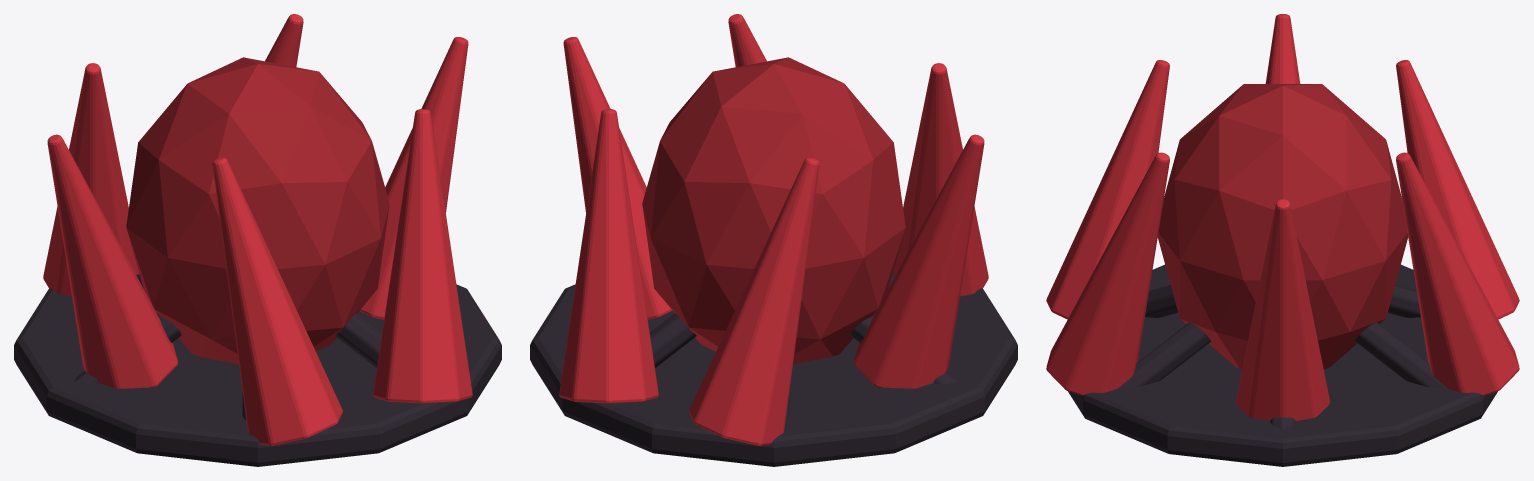
The model's file is alien_core.glb.
The picture shows the model from 3 angles, left to right: view 1: azimuth 30°, elevation 25°; view 2: azimuth 150°, elevation 25°; view 3: azimuth 270°, elevation 25°; orthographic projection. The views are drawn at different scales.
Parts seen in each view (by area): view 1: CoreShell, Foundation, CoreBlade.005, CoreBlade.004, CoreBlade.003, CoreBlade.002, CoreBlade, Root.005, CoreBlade.001, Root.003; view 2: CoreShell, Foundation, CoreBlade.001, CoreBlade.002, CoreBlade.003, CoreBlade.004, CoreBlade, Root.001, CoreBlade.005, Root.003; view 3: CoreShell, Foundation, CoreBlade.001, CoreBlade.005, CoreBlade, CoreBlade.002, CoreBlade.004, Root.001, Root.005, CoreBlade.003, Root.002, Root.004.
Part boxes in pixels (<box>): CoreShell: <box>126,57,389,364</box>; Foundation: <box>14,284,501,466</box>; CoreBlade.005: <box>373,109,472,403</box>; CoreBlade.004: <box>212,157,342,445</box>; CoreBlade.003: <box>47,134,177,388</box>; CoreBlade.002: <box>43,63,139,296</box>; CoreBlade: <box>359,37,468,319</box>; Root.005: <box>335,313,382,367</box>; CoreBlade.001: <box>265,14,303,66</box>; Root.003: <box>74,314,181,384</box>; CoreShell: <box>642,57,905,364</box>; Foundation: <box>530,284,1017,466</box>; CoreBlade.001: <box>559,109,658,403</box>; CoreBlade.002: <box>689,157,819,445</box>; CoreBlade.003: <box>854,134,984,388</box>; CoreBlade.004: <box>892,63,988,296</box>; CoreBlade: <box>563,37,672,319</box>; Root.001: <box>649,313,696,367</box>; CoreBlade.005: <box>728,14,766,66</box>; Root.003: <box>850,314,957,384</box>; CoreShell: <box>1157,84,1408,369</box>; Foundation: <box>1068,264,1497,466</box>; CoreBlade.001: <box>1396,152,1519,396</box>; CoreBlade.005: <box>1046,152,1169,396</box>; CoreBlade: <box>1236,199,1329,420</box>; CoreBlade.002: <box>1396,60,1519,319</box>; CoreBlade.004: <box>1046,60,1169,319</box>; Root.001: <box>1355,322,1447,388</box>; Root.005: <box>1118,322,1210,388</box>; CoreBlade.003: <box>1265,14,1300,83</box>; Root.002: <box>1387,285,1420,317</box>; Root.004: <box>1145,285,1178,317</box>.
Bounding box in the file's own units: 2.1 × 1.44 × 2.15.
